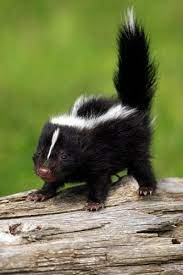skunk: (23, 12, 157, 213)
